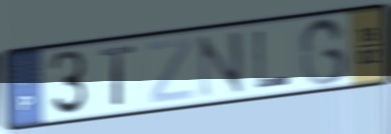3: (47, 49, 90, 118)
G: (298, 14, 350, 89)
L: (252, 28, 293, 91)
N: (196, 28, 248, 101)
T: (98, 43, 139, 109)
Z: (145, 35, 194, 106)
